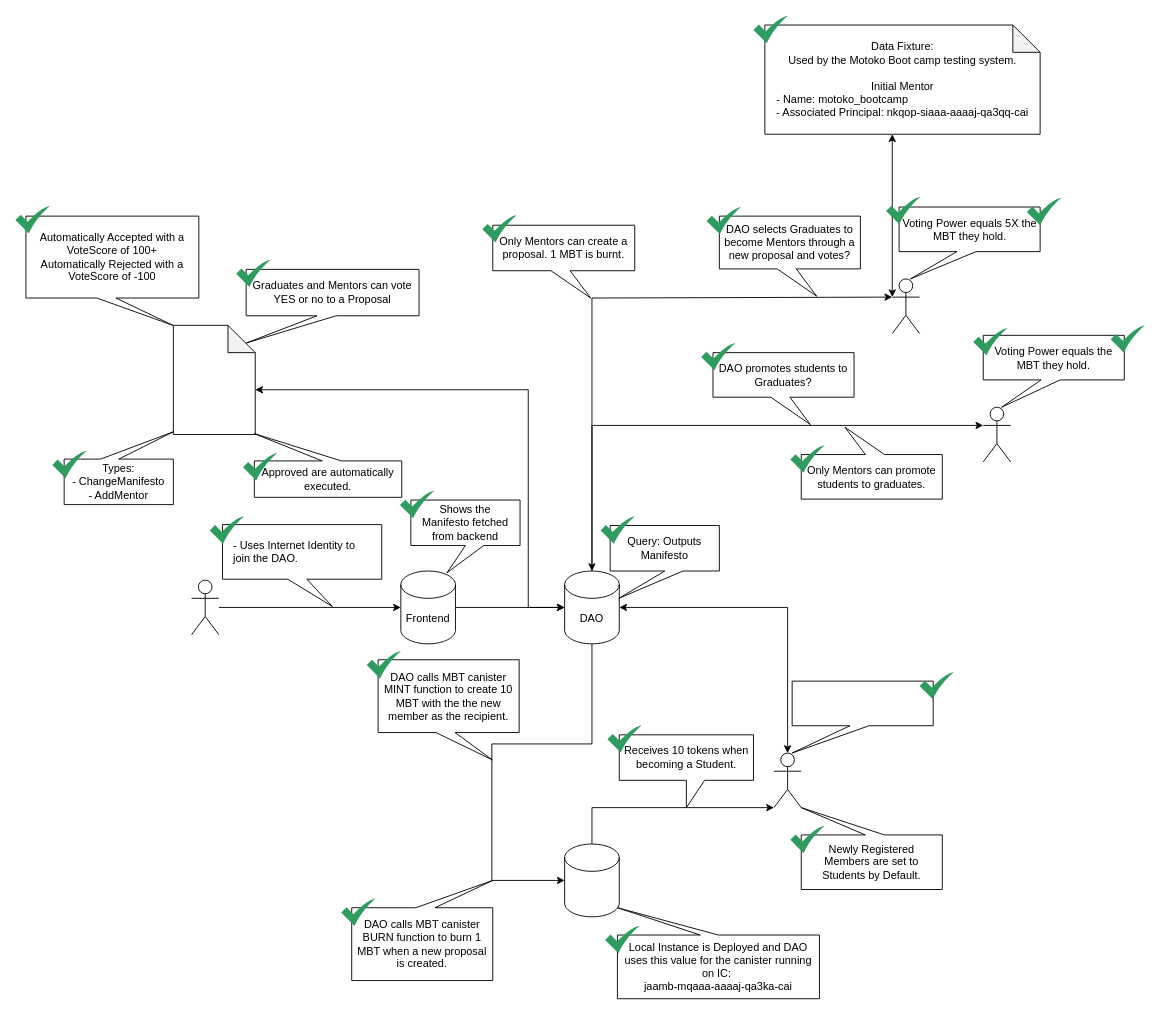
This 1160x1015 diagram has some shape labels left out. The centre of each missing label's shape, as x and y in pixels:
Graduate: pixel 996 434
Mentor: pixel 905 306
Motoko Bootcamp Token: pixel 591 880
Proposal Model: VoteScore ProposalDetails: pixel 213 379
Student: pixel 787 780
User: pixel 205 607
Voting power is 0: pixel 862 716
